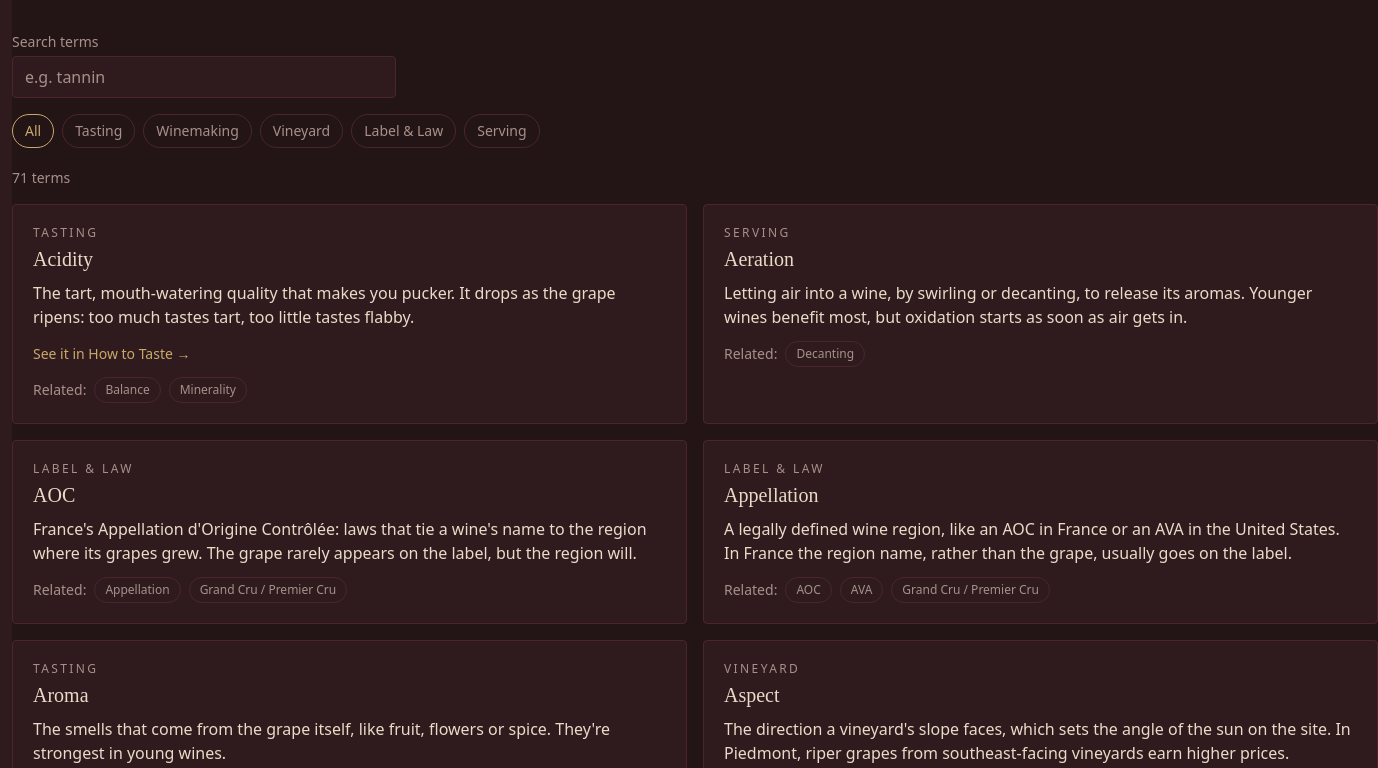
Test: GlossaryChapter › narrows by category
This screenshot has width=1378, height=768.
What coordinates should you click on to do the following:
click the button "Serving"
I would click on:
 (502, 131)
Its box is [464, 114, 540, 148].
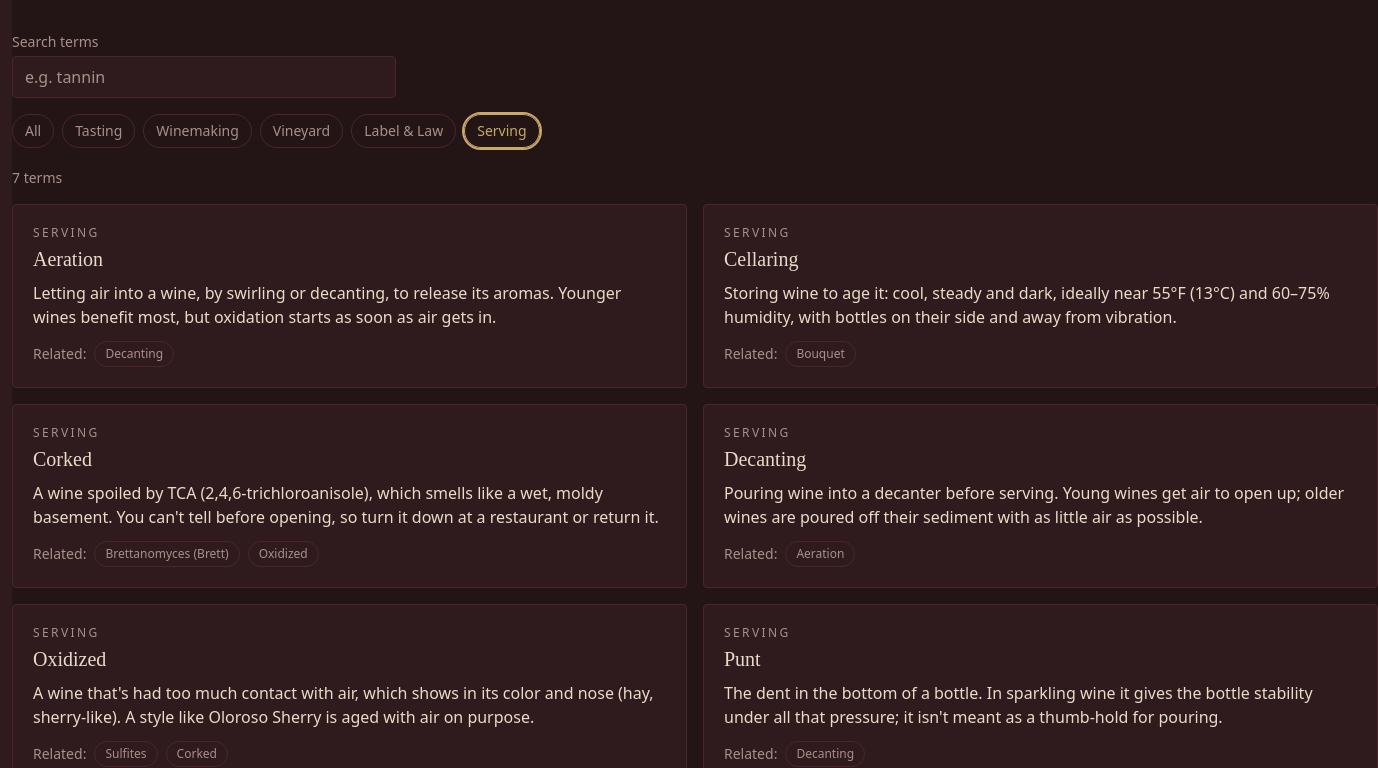
Now the message reads "7 terms", box [12, 168, 62, 187]
